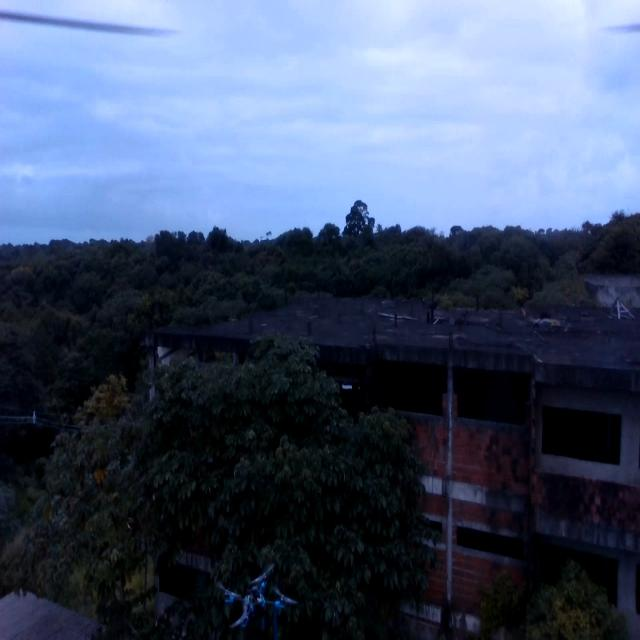-uav-: (209, 549, 305, 640)
